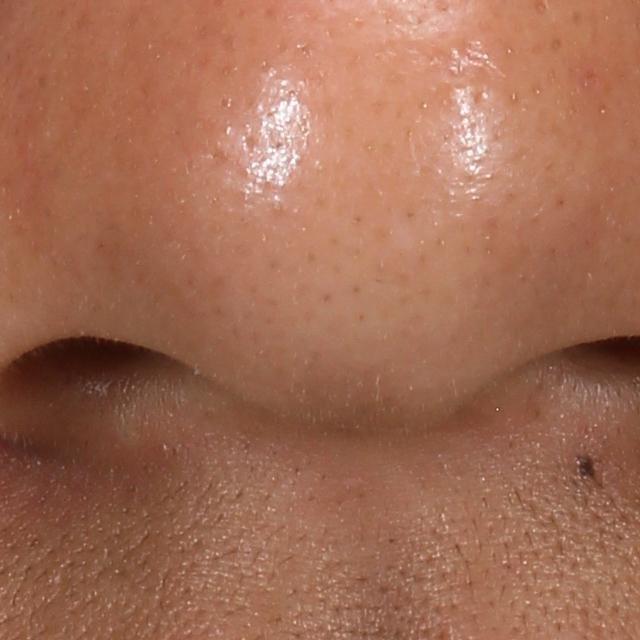nevus: (571, 456, 596, 484)
